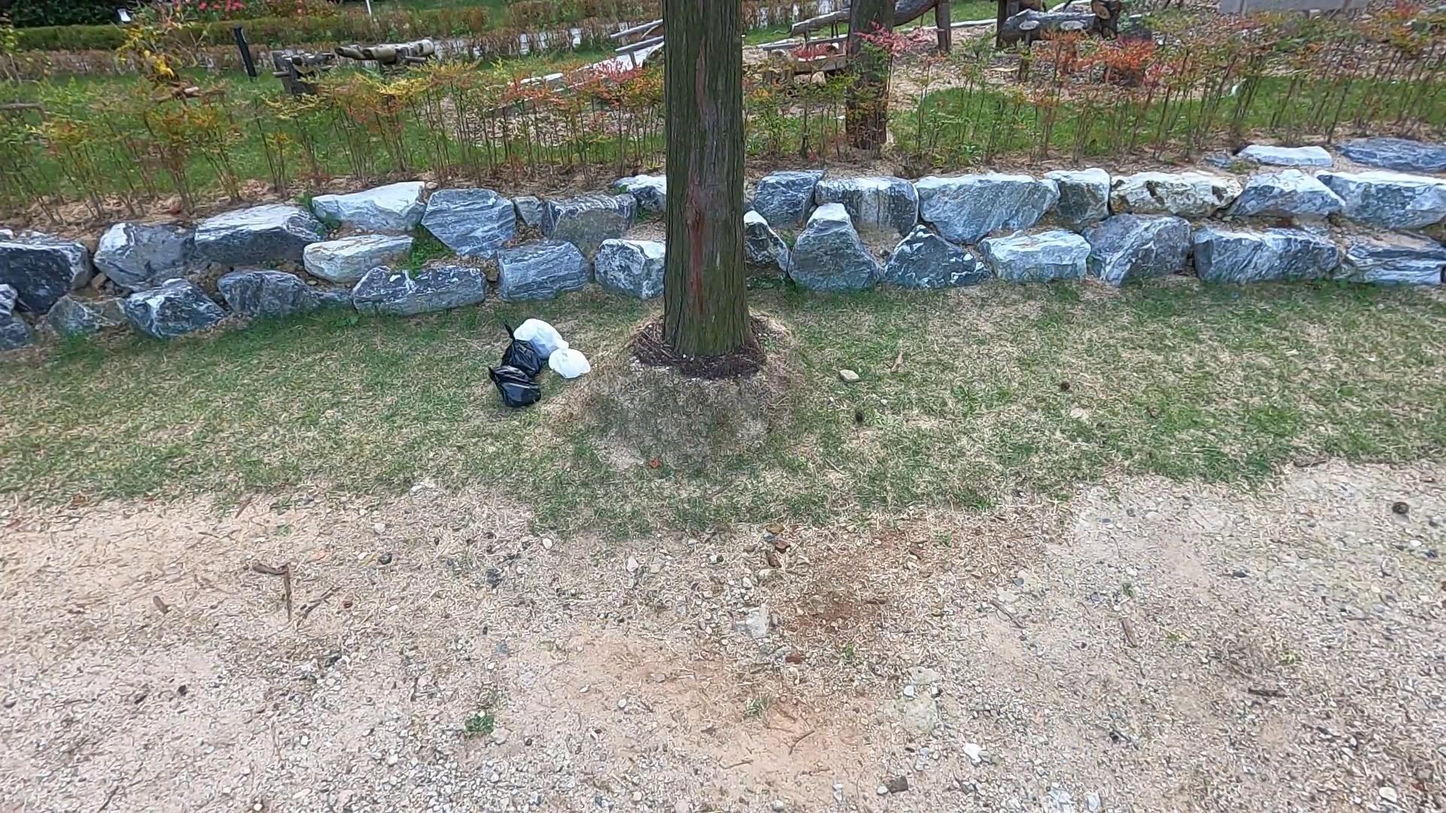trash: (482, 360, 546, 411), (512, 315, 570, 362), (546, 334, 596, 386), (496, 327, 543, 377)
